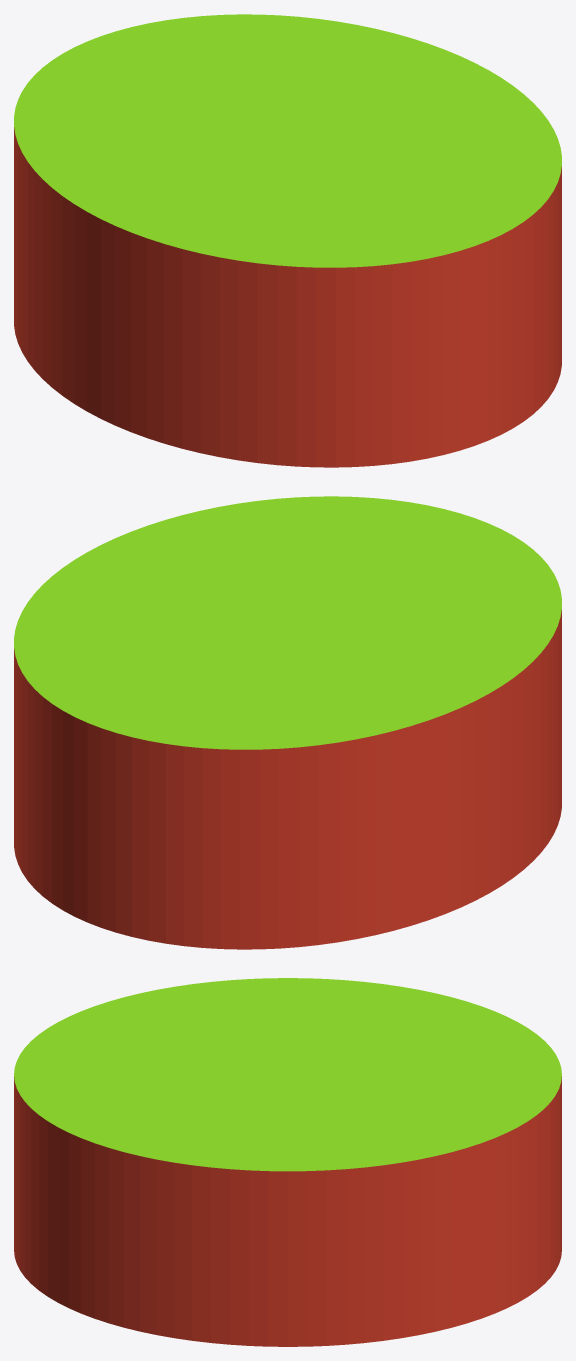
File: CircularRoom.fbx
3 views of the same model, one above another, from view 1: azimuth 30°, elevation 25°; view 2: azimuth 150°, elevation 25°; view 3: azimuth 270°, elevation 25° (orthographic). The views are drawn at different scales.
Visible parts, largest first — view 1: Cylinder.001; view 2: Cylinder.001; view 3: Cylinder.001.
Part boxes in pixels (left/top/right/bottom): Cylinder.001: left=14, top=14, right=561, bottom=467; Cylinder.001: left=14, top=496, right=561, bottom=949; Cylinder.001: left=14, top=978, right=561, bottom=1346.
Bounding box in the file's own units: 204 × 86.49 × 245.
